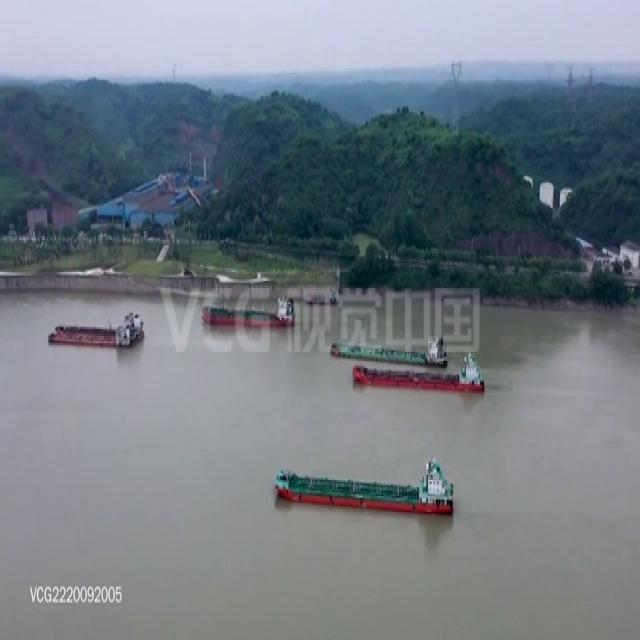cargoship: (274, 459, 456, 518), (352, 352, 486, 394), (329, 324, 450, 368), (50, 304, 143, 350), (201, 288, 296, 328), (303, 281, 341, 307)
